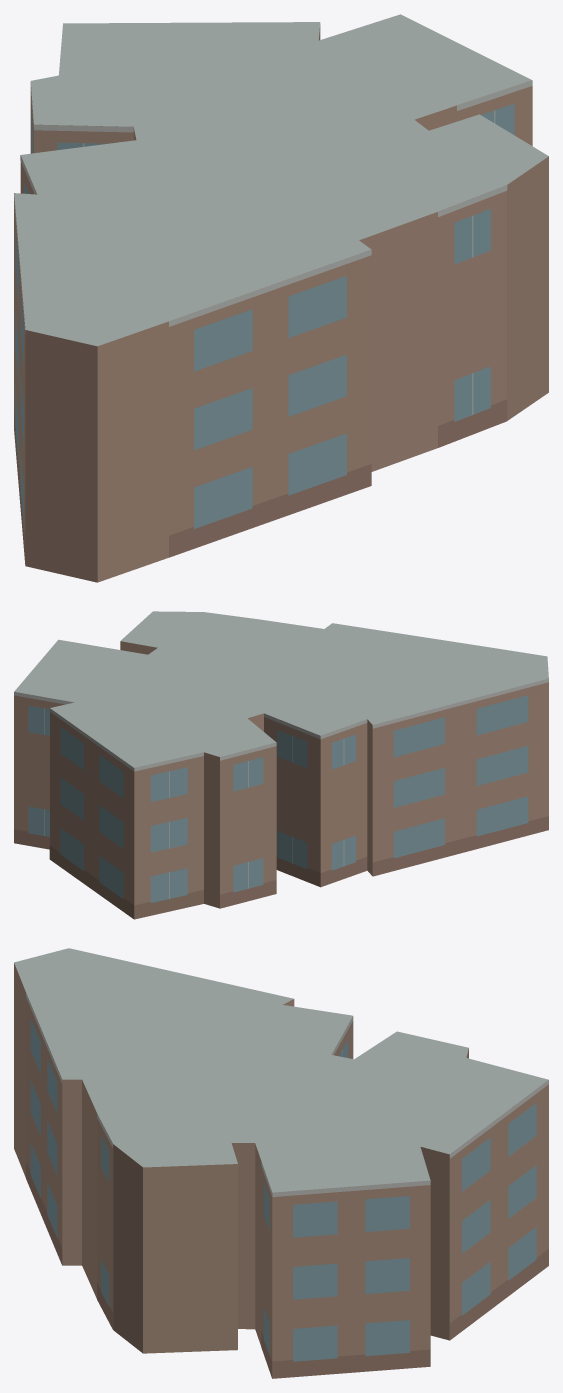
The model's file is survey-upis-32503199.glb.
3 views of the same model, one above another, from view 1: azimuth 30°, elevation 25°; view 2: azimuth 150°, elevation 25°; view 3: azimuth 270°, elevation 25° (orthographic). The views are drawn at different scales.
Visible parts, largest first — view 1: survey-upis-32503199.tmp; view 2: survey-upis-32503199.tmp; view 3: survey-upis-32503199.tmp.
Part boxes in pixels (left/top/right/bottom): survey-upis-32503199.tmp: left=14, top=14, right=548, bottom=582; survey-upis-32503199.tmp: left=14, top=611, right=548, bottom=919; survey-upis-32503199.tmp: left=14, top=948, right=548, bottom=1378.
Size of the model in its own units: 28.52 by 10.12 by 26.36.
